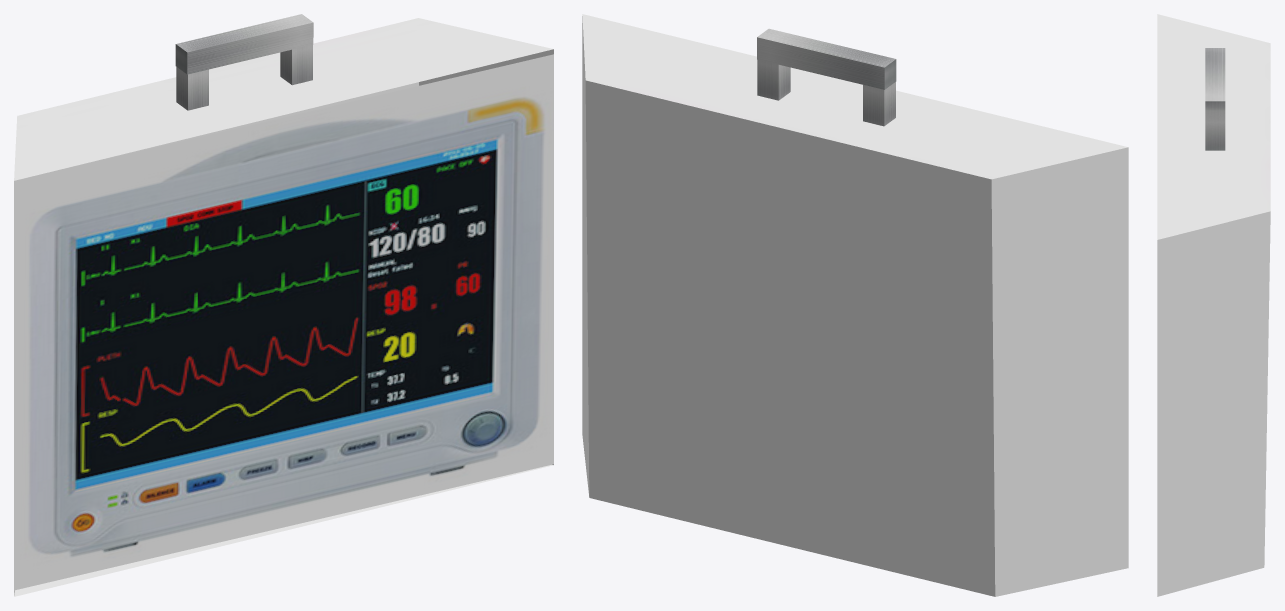
File: SignosVitales.fbx
The picture shows the model from 3 angles, left to right: view 1: azimuth 30°, elevation 25°; view 2: azimuth 150°, elevation 25°; view 3: azimuth 270°, elevation 25°; orthographic projection. The views are drawn at different scales.
Visible parts, largest first — view 1: Cube, Cube.003, Cube.001, Cube.002; view 2: Cube, Cube.003, Cube.001, Cube.002; view 3: Cube, Cube.003, Cube.002.
Part boxes in pixels (bbox=[...]): Cube: bbox=[14, 18, 553, 596]; Cube.003: bbox=[175, 14, 313, 74]; Cube.001: bbox=[176, 67, 208, 110]; Cube.002: bbox=[280, 44, 312, 85]; Cube: bbox=[582, 14, 1128, 596]; Cube.003: bbox=[757, 28, 896, 89]; Cube.001: bbox=[863, 82, 895, 126]; Cube.002: bbox=[757, 59, 790, 100]; Cube: bbox=[1157, 14, 1270, 596]; Cube.003: bbox=[1205, 48, 1225, 120]; Cube.002: bbox=[1205, 120, 1225, 150].
Size of the model in its own units: 272 by 231 by 57.62.
Materials: 6 (4 with a texture image).
